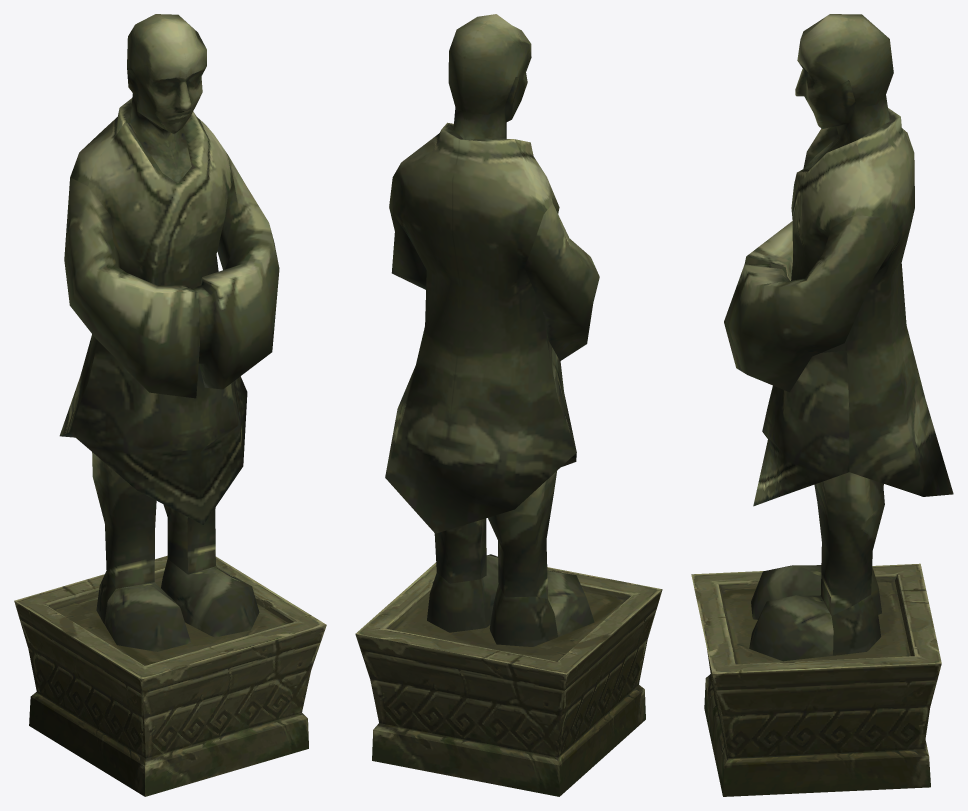
The model's file is environment_common_diaoxiang_002_a.FBX.
3 renders of one model, left to right at view 1: azimuth 30°, elevation 25°; view 2: azimuth 150°, elevation 25°; view 3: azimuth 270°, elevation 25°, orthographic. The views are drawn at different scales.
Visible parts, largest first — view 1: environment_common_diaoxiang_001_b, environment_common_diaoxiang_001_c; view 2: environment_common_diaoxiang_001_b, environment_common_diaoxiang_001_c; view 3: environment_common_diaoxiang_001_b, environment_common_diaoxiang_001_c.
Boxes of the visible parts, x1,y1,x2,y2 form: environment_common_diaoxiang_001_b: (59,14,279,651); environment_common_diaoxiang_001_c: (14,555,326,796); environment_common_diaoxiang_001_b: (385,14,599,646); environment_common_diaoxiang_001_c: (355,562,662,796); environment_common_diaoxiang_001_b: (724,14,953,661); environment_common_diaoxiang_001_c: (691,563,941,796).
Size of the model in its own units: 123 by 392 by 126.
